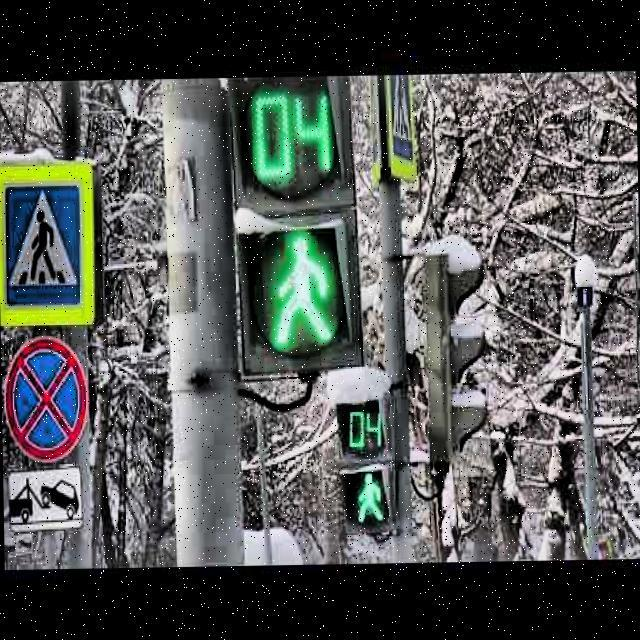green_light: (267, 230, 336, 352), (355, 468, 387, 526)
